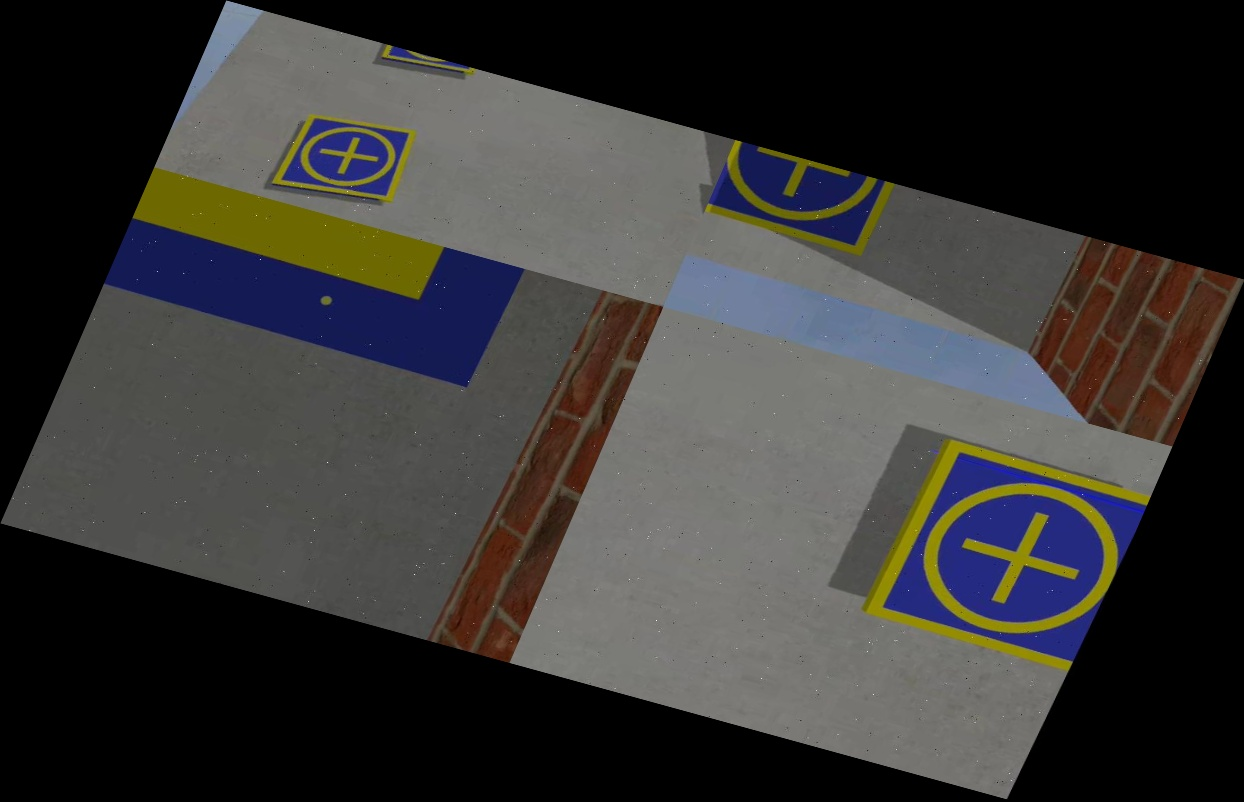large_base: (97, 167, 535, 402)
small_base: (859, 432, 1152, 673), (703, 140, 900, 260), (267, 100, 422, 219), (371, 42, 476, 86)
